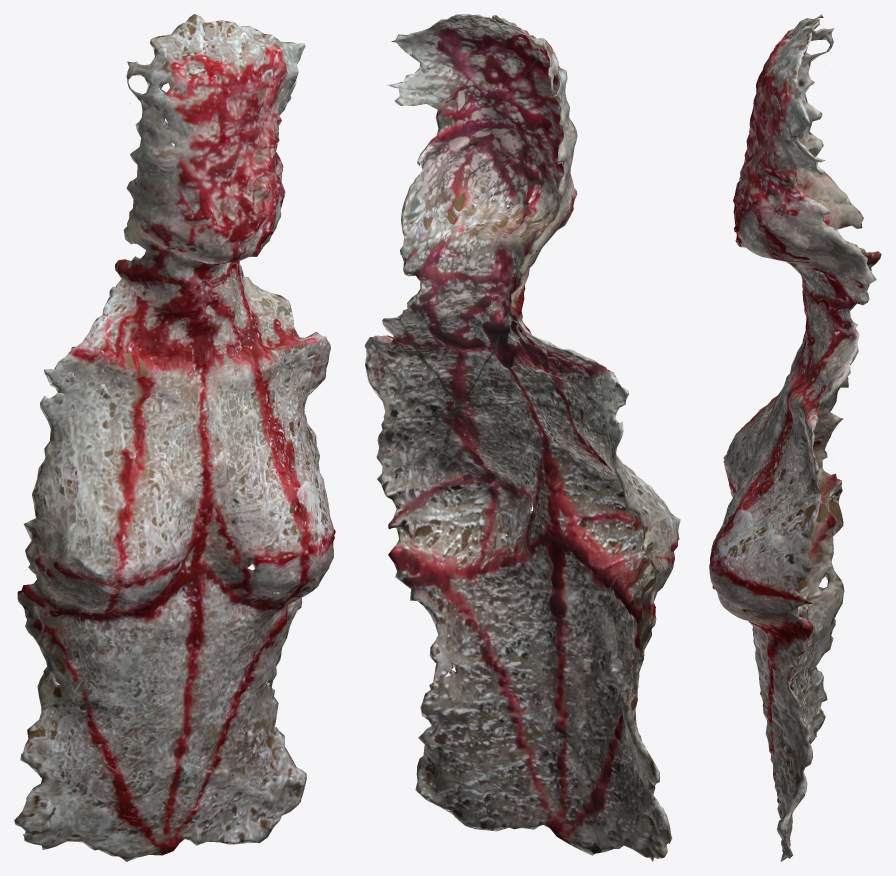
The model's file is 3DModel.obj.
3 renders of one model, left to right at view 1: azimuth 30°, elevation 25°; view 2: azimuth 150°, elevation 25°; view 3: azimuth 270°, elevation 25°, orthographic. The views are drawn at different scales.
Parts seen in each view (by area): view 1: submesh; view 2: submesh; view 3: submesh.
Boxes of the visible parts, x1,y1,x2,y2 form: submesh: (14, 14, 335, 861); submesh: (364, 14, 680, 861); submesh: (709, 14, 881, 861).
Size of the model in its own units: 0.2869 by 0.7312 by 0.1392.
1 material, 1 textured.
